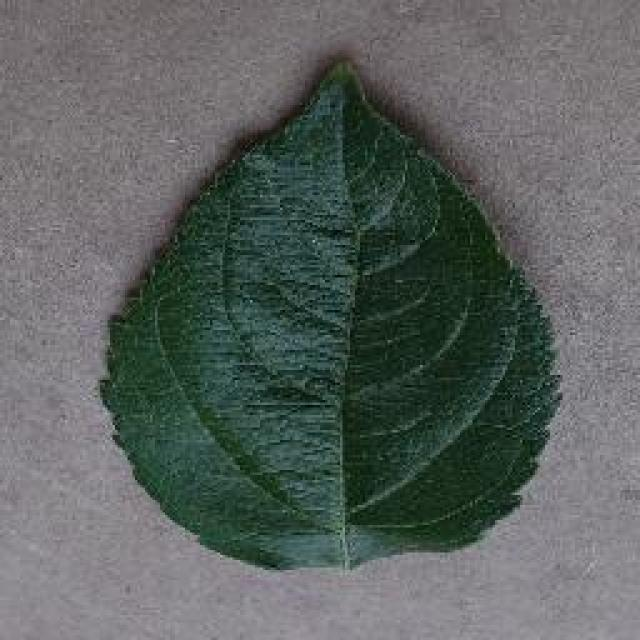apple scab disease: (95, 55, 563, 573)
